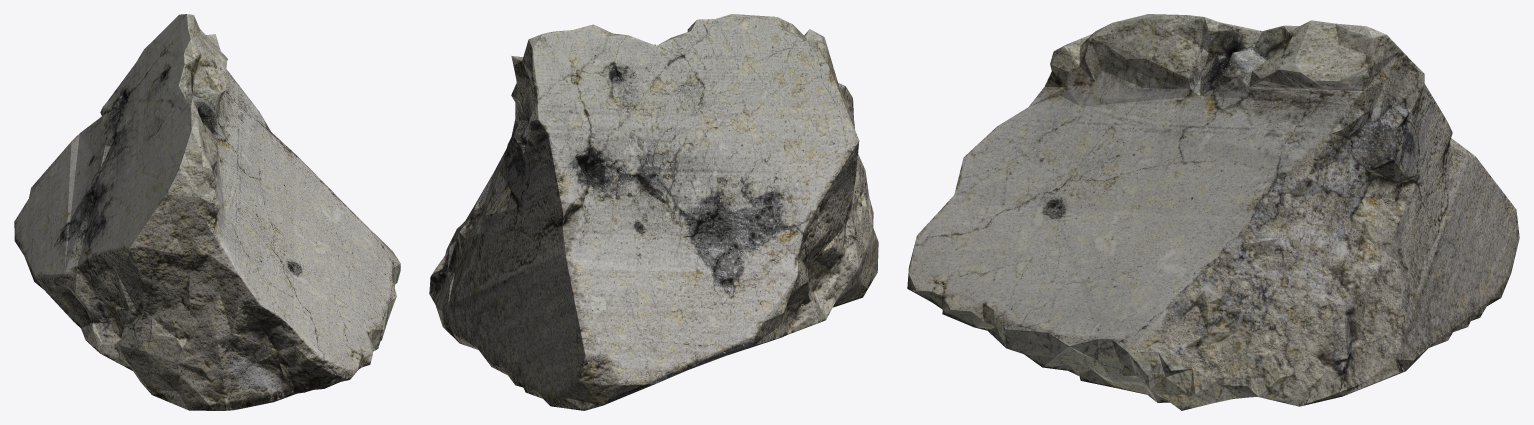
The model's file is EET79001-312.fbx.
3 views of the same model, side by side, from view 1: azimuth 30°, elevation 25°; view 2: azimuth 150°, elevation 25°; view 3: azimuth 270°, elevation 25° (orthographic). The views are drawn at different scales.
Visible parts, largest first — view 1: EET79001-312; view 2: EET79001-312; view 3: EET79001-312.
Part boxes in pixels (x1,y1,x2,y2): EET79001-312: [14, 14, 400, 410]; EET79001-312: [429, 14, 878, 410]; EET79001-312: [907, 14, 1519, 410].
Size of the model in its own units: 81.29 by 71 by 120.
